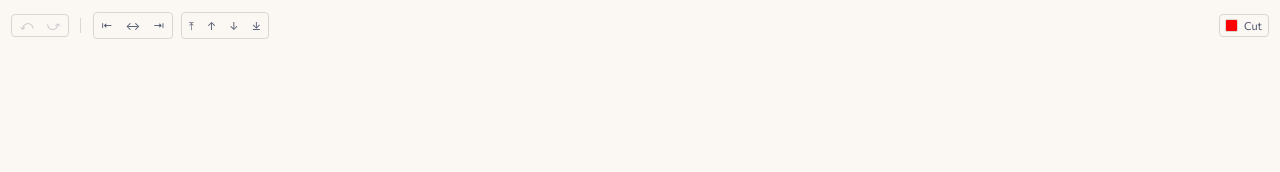
Test: ControlBar — operation swatch → picker (C2) › clicking the swatch opens the operation picker (not a color wheel)
Click the button with aria-label "operation" at (1244, 25), box [1218, 14, 1269, 37]
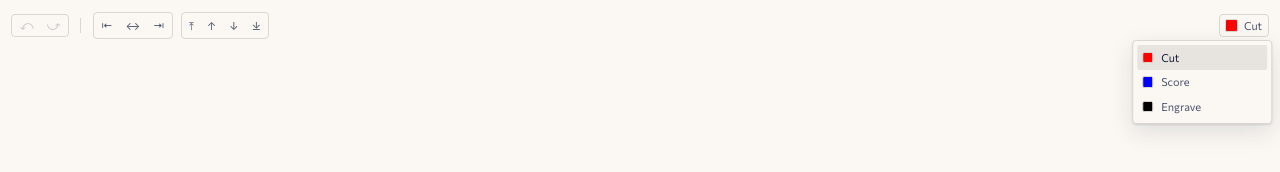
Check: the menu item "Score" is shown, box [1137, 70, 1267, 94]
